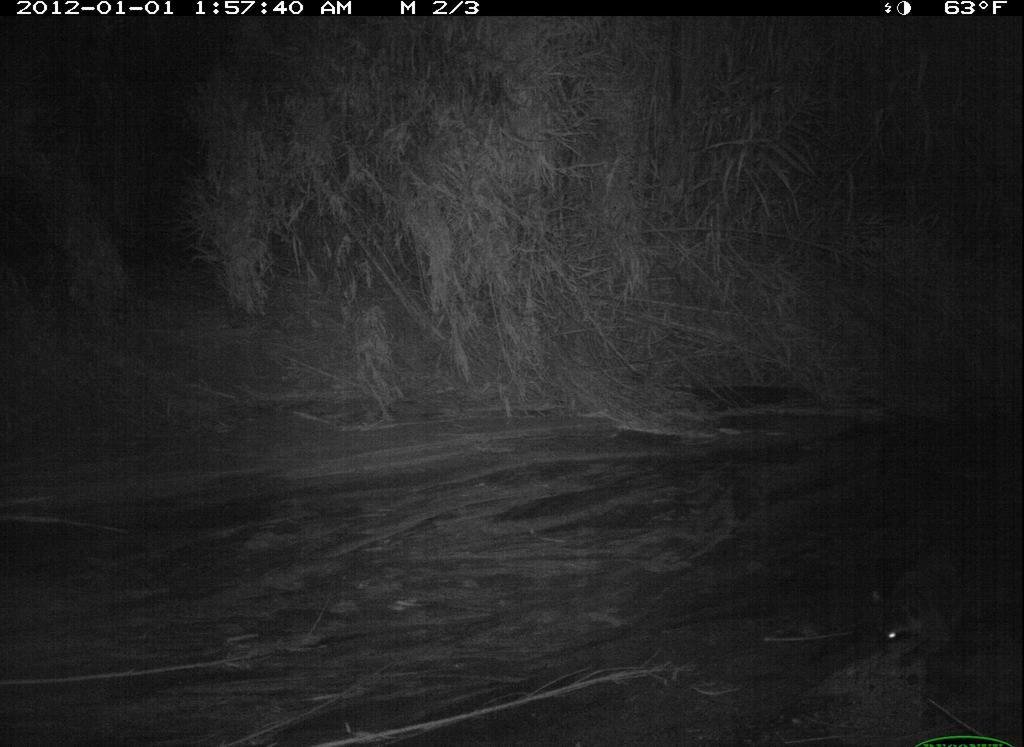raccoon: (865, 536, 1005, 669)
